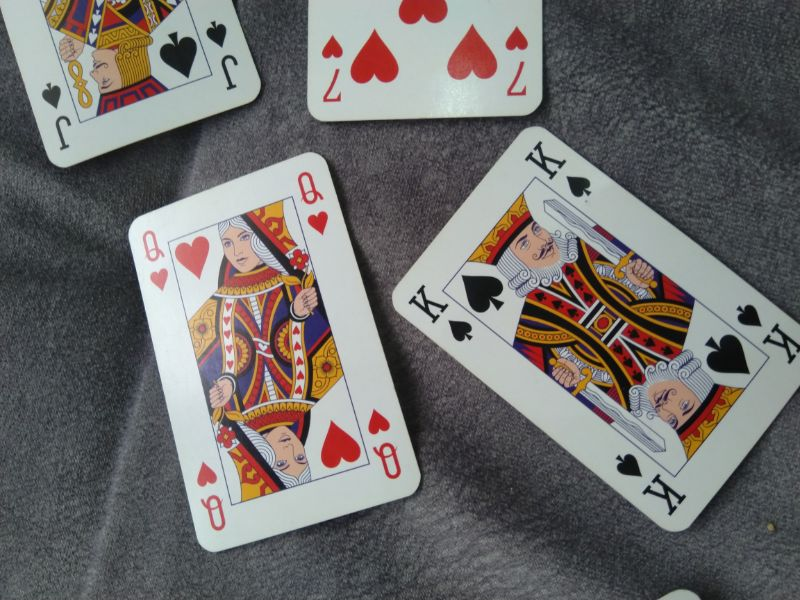7h: (502, 22, 536, 101), (317, 32, 348, 107)
Js: (204, 18, 243, 91), (40, 80, 76, 154)
Ks: (612, 449, 689, 519), (404, 281, 477, 347), (523, 135, 595, 201), (735, 302, 800, 366)
Qh: (363, 406, 404, 482), (194, 461, 229, 538), (295, 168, 331, 240), (139, 226, 174, 296)
